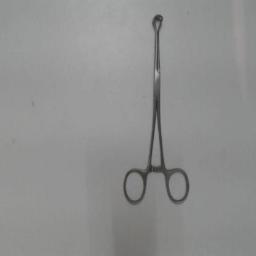Babcock Tissue Forceps: (122, 12, 192, 206)
